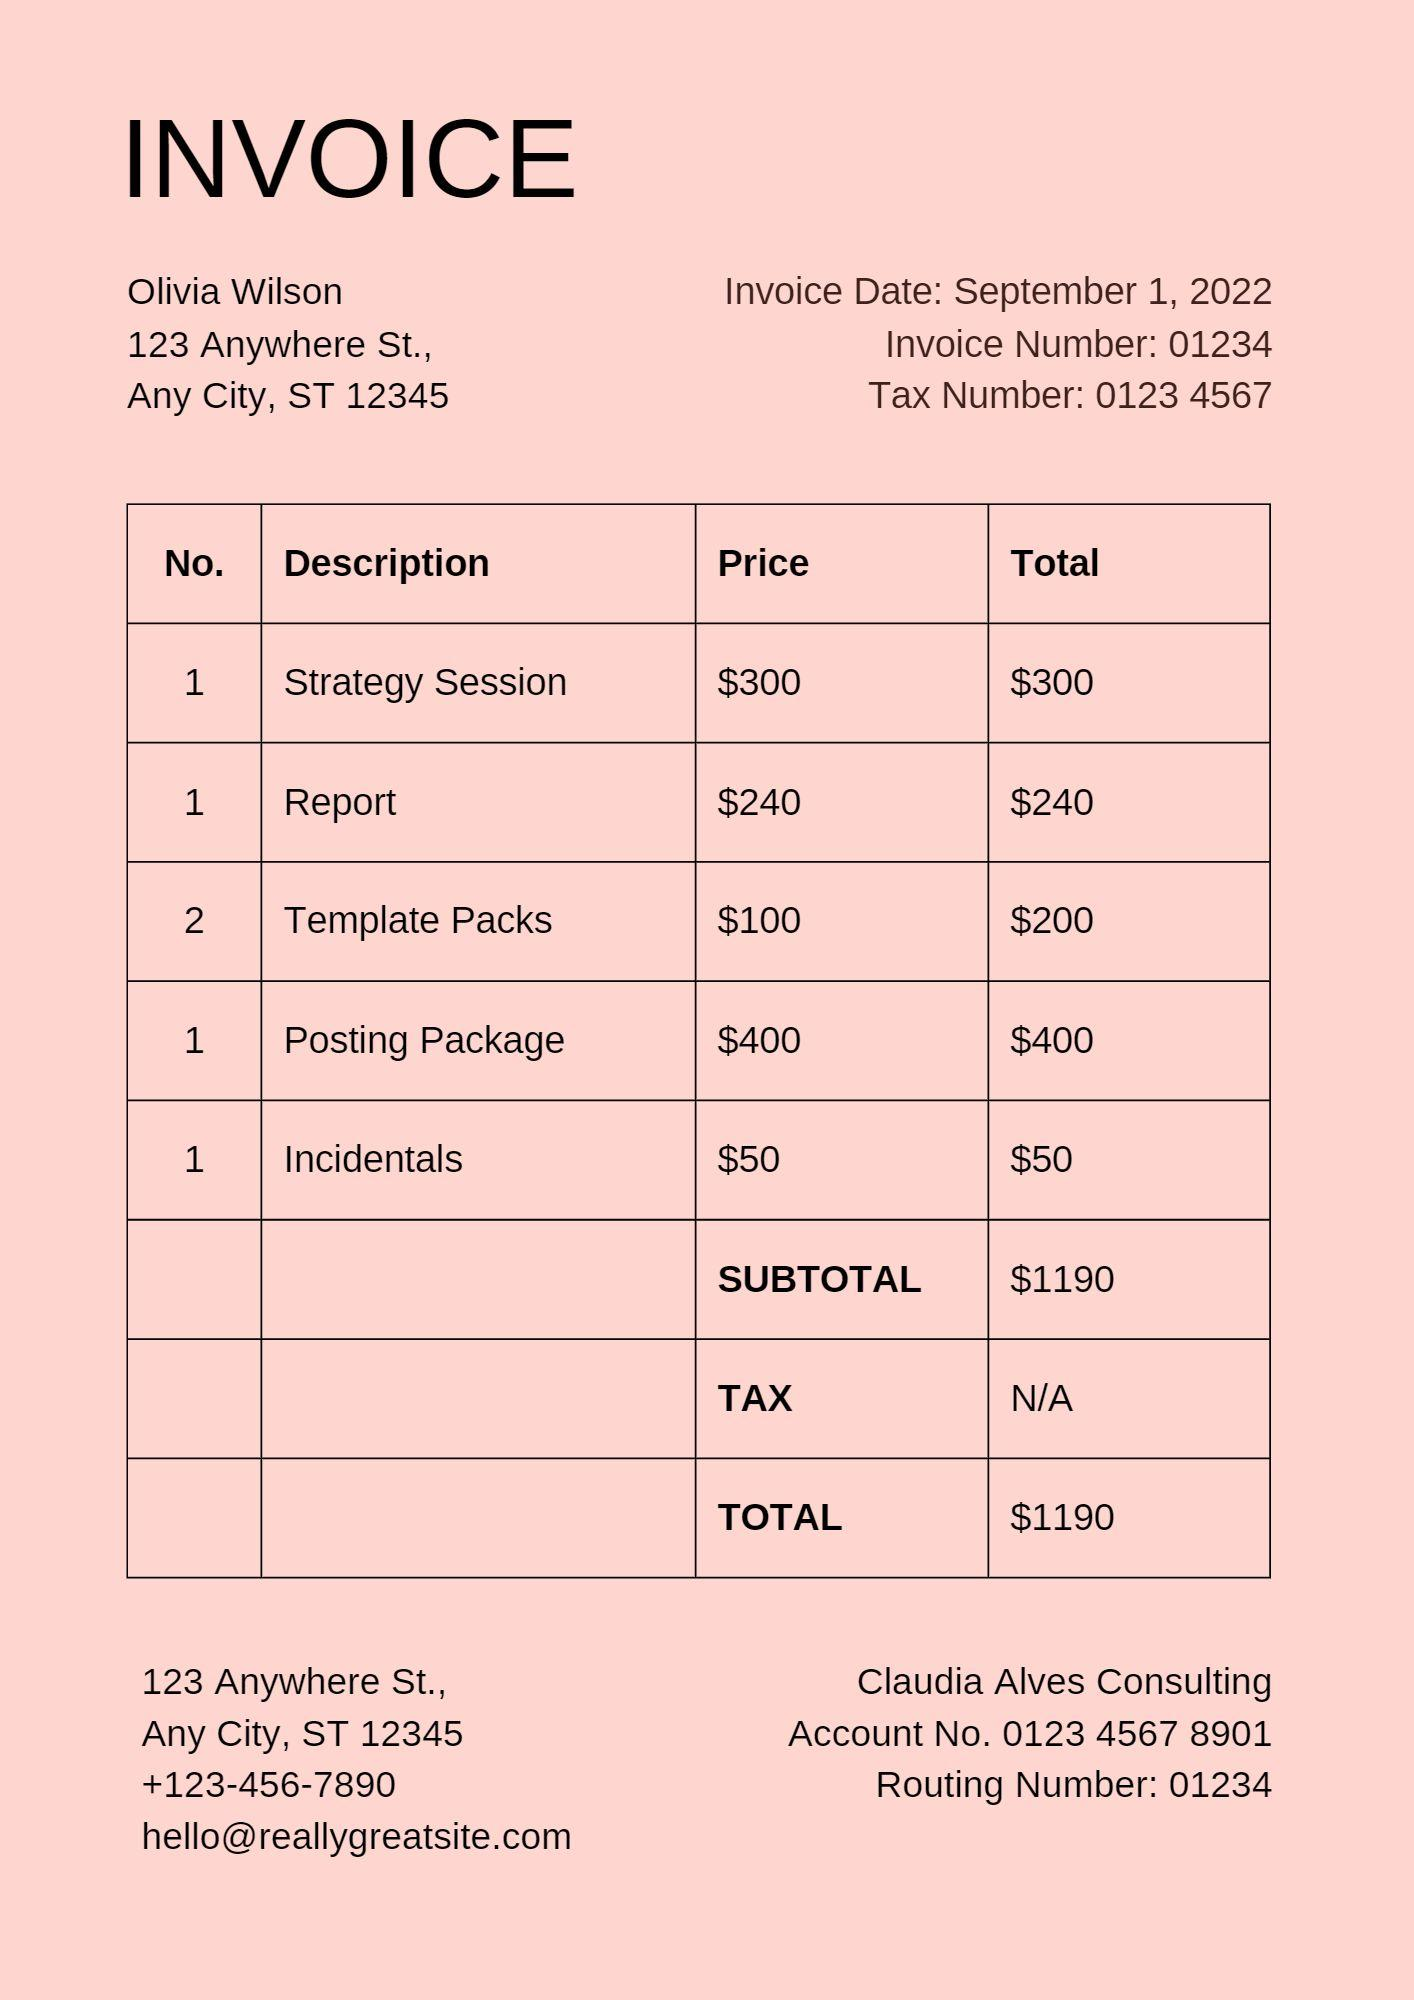ROI: (113, 493, 1280, 1588)
